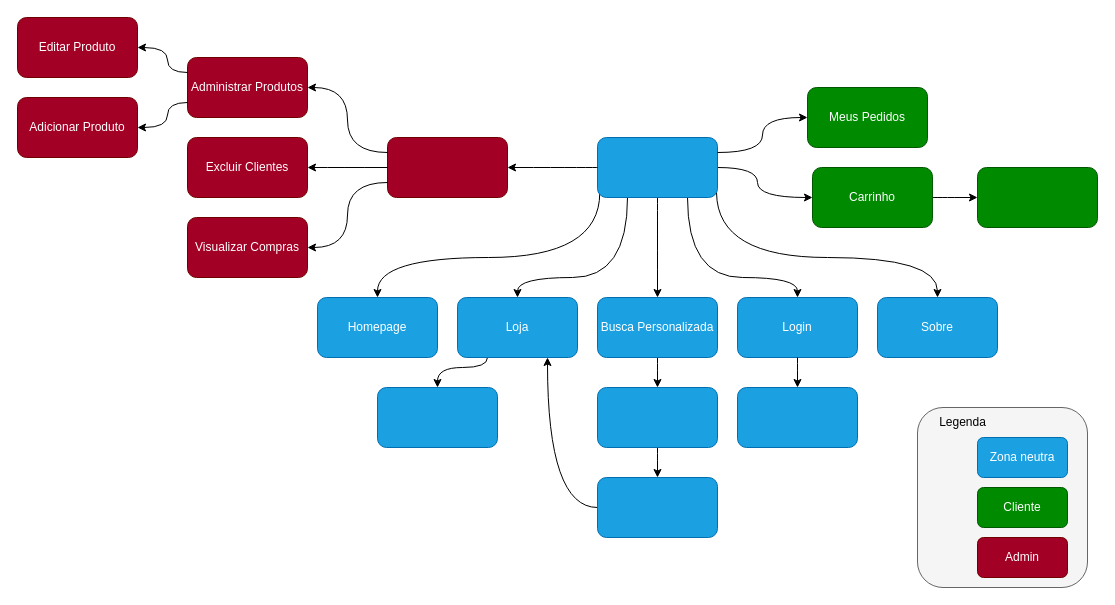
Some shapes in this 1115 by 605 pixel diagram are drawn without their labels. Here are the shapes that lost their labels. From the top down, the box of each, then its label:
(386, 136, 508, 198): Administracao
(596, 136, 718, 198): Barra de Navegação
(976, 166, 1098, 228): Checkout
(376, 386, 498, 448): Produto
(596, 386, 718, 448): Página do Quiz
(736, 386, 858, 448): Cadastro
(596, 476, 718, 538): Recomendações
